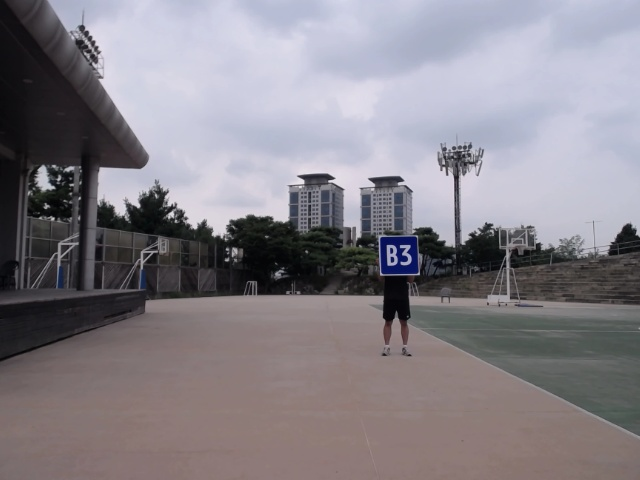delivery_b3: (376, 233, 422, 278)
